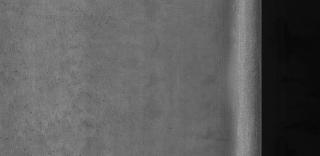silk spot: (37, 81, 104, 134), (51, 38, 90, 68)
